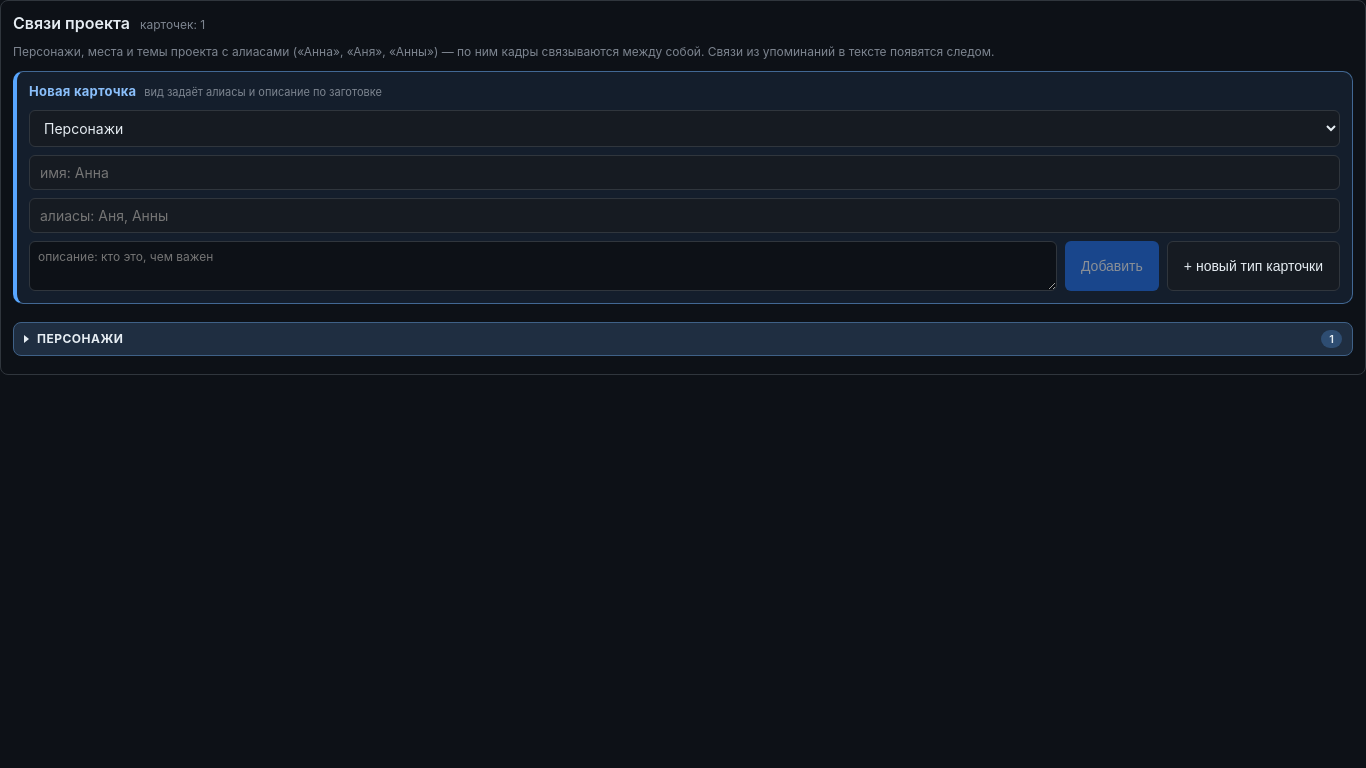
EntitiesPanel › новый тип заводится во всплывающем окне; Escape закрывает и возвращает фокус (0.111.0)
Click the button "+ новый тип карточки" at (1253, 266), box [1167, 240, 1340, 290]
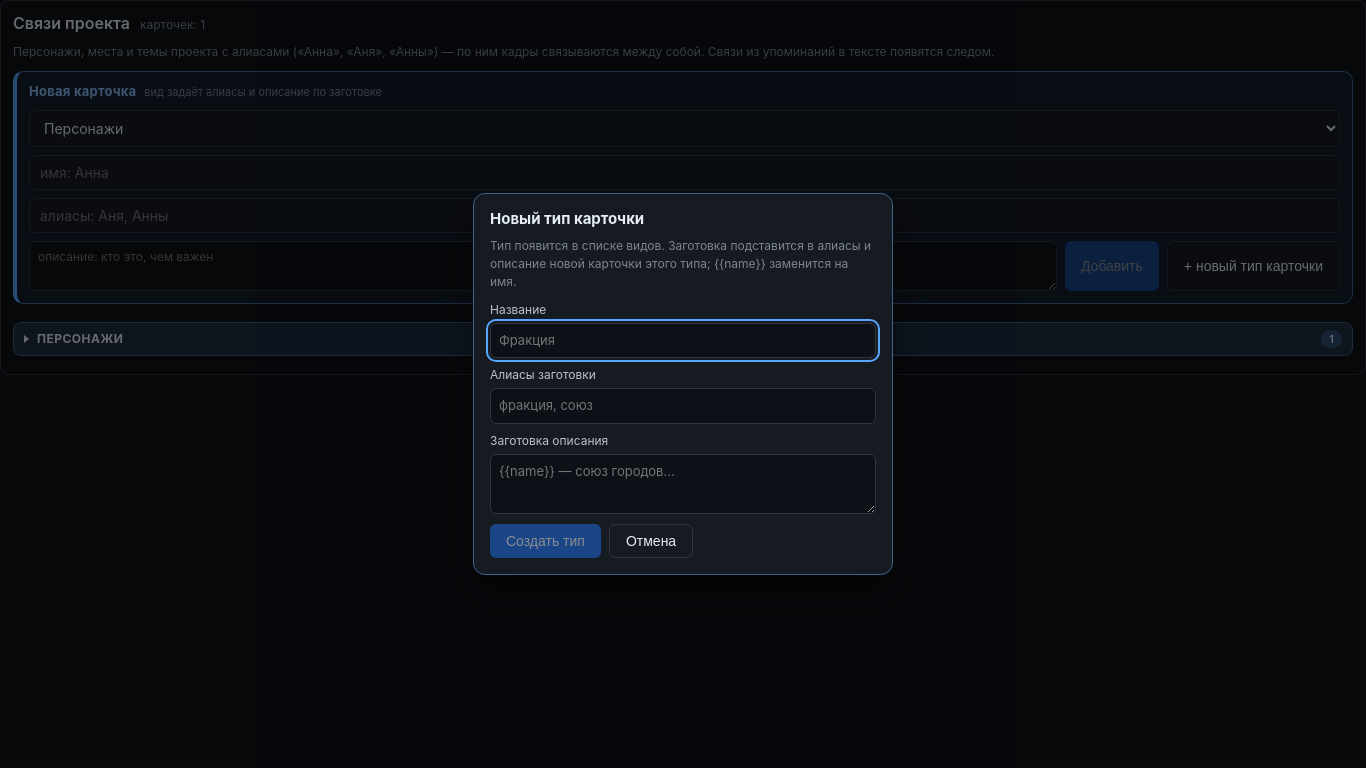
Expected: the field labelled "Алиасы заготовки" is shown, [490, 388, 876, 424]
Press Escape
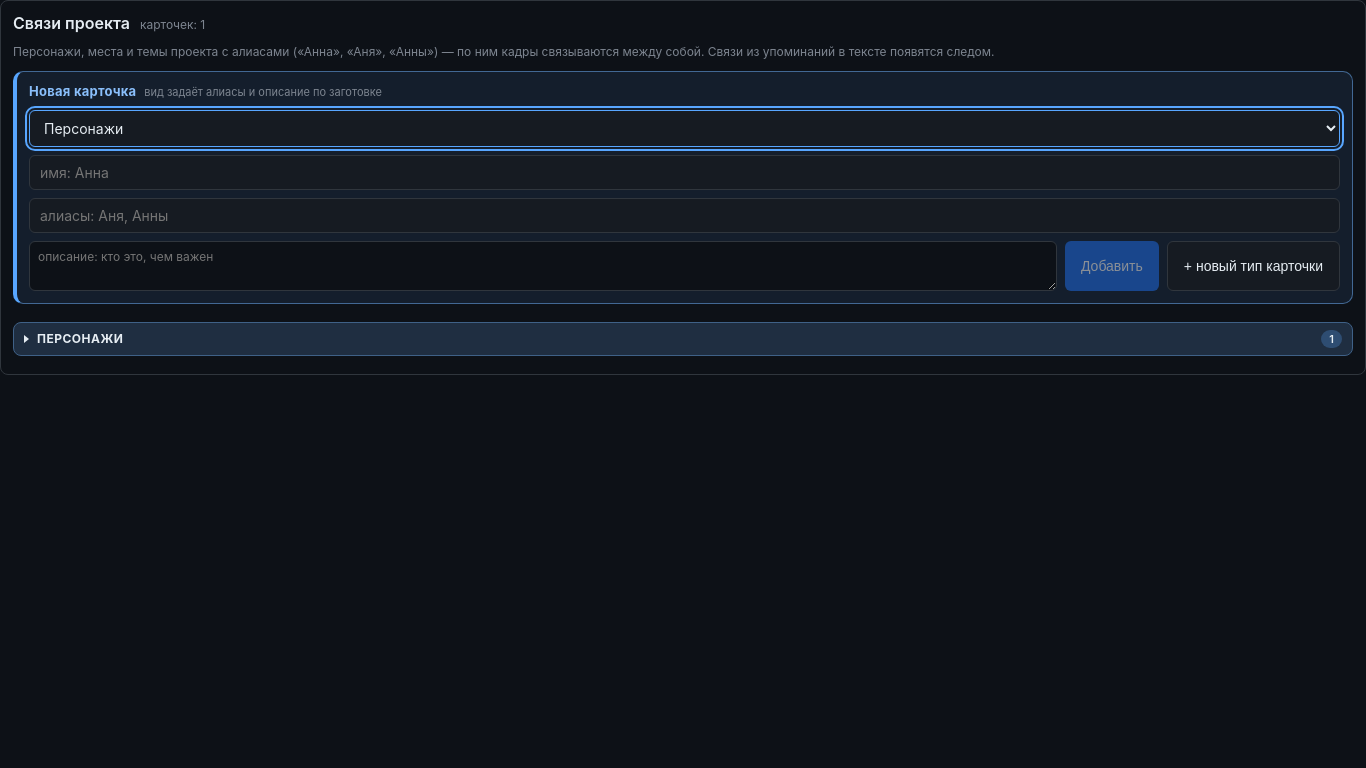
Expected: the dialog is gone
